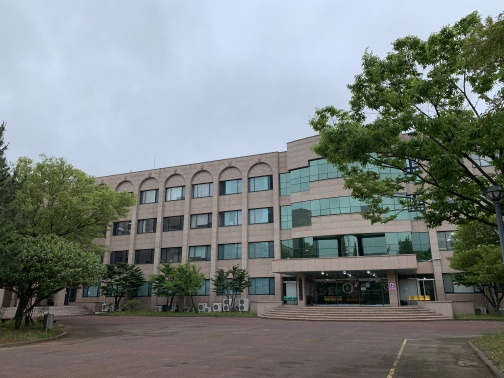Natural Science2: (109, 143, 478, 317)
